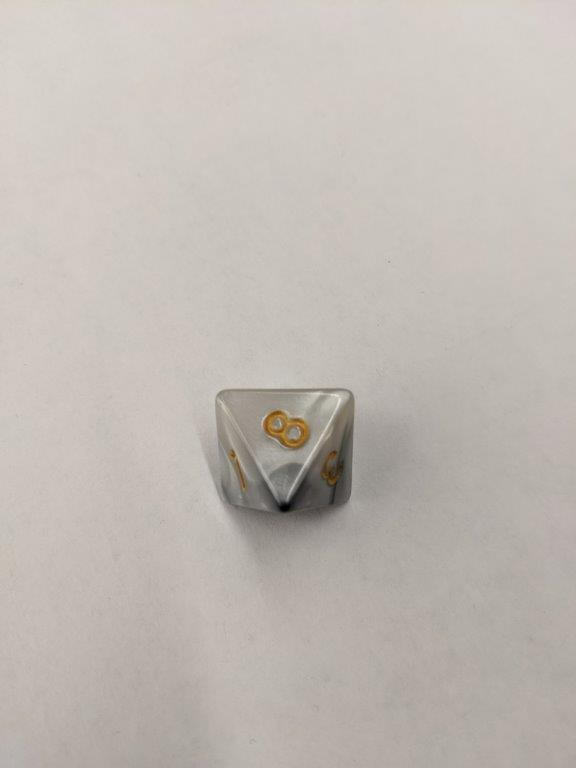d8-8: (211, 387, 357, 518)
